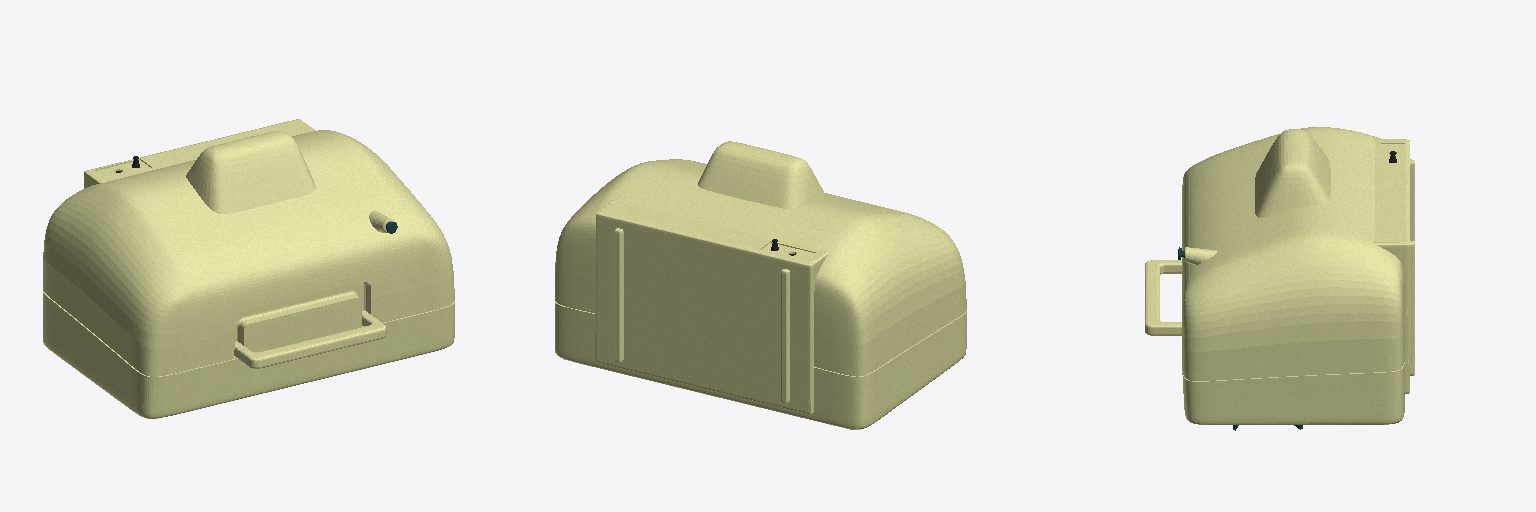
The picture shows the model from 3 angles: view 1: azimuth 30°, elevation 25°; view 2: azimuth 150°, elevation 25°; view 3: azimuth 270°, elevation 25°; orthographic projection.
Parts seen in each view (by area): view 1: Retro_TV; view 2: Retro_TV; view 3: Retro_TV.
Part boxes in pixels (x1,y1,x2,y2): Retro_TV: (43, 119, 454, 418); Retro_TV: (555, 141, 966, 429); Retro_TV: (1145, 127, 1414, 430).
Size of the model in its own units: 633 by 422 by 471.
Materials: 8 (2 with a texture image).